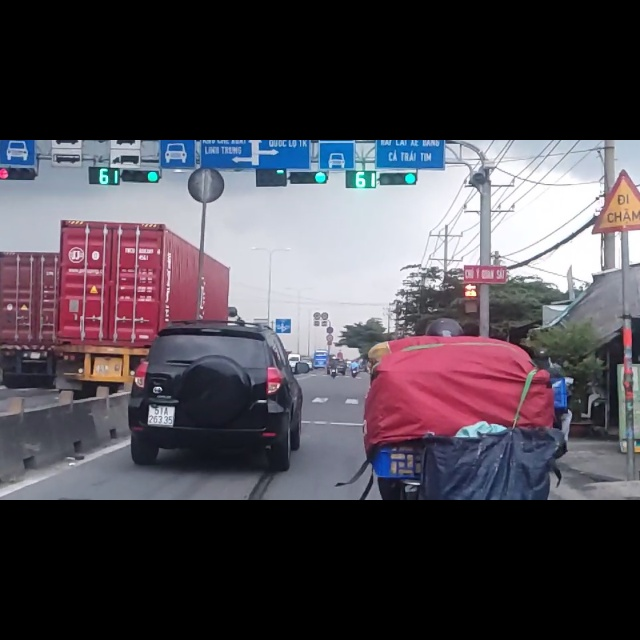bien_chi_dan: (593, 52, 640, 167)
